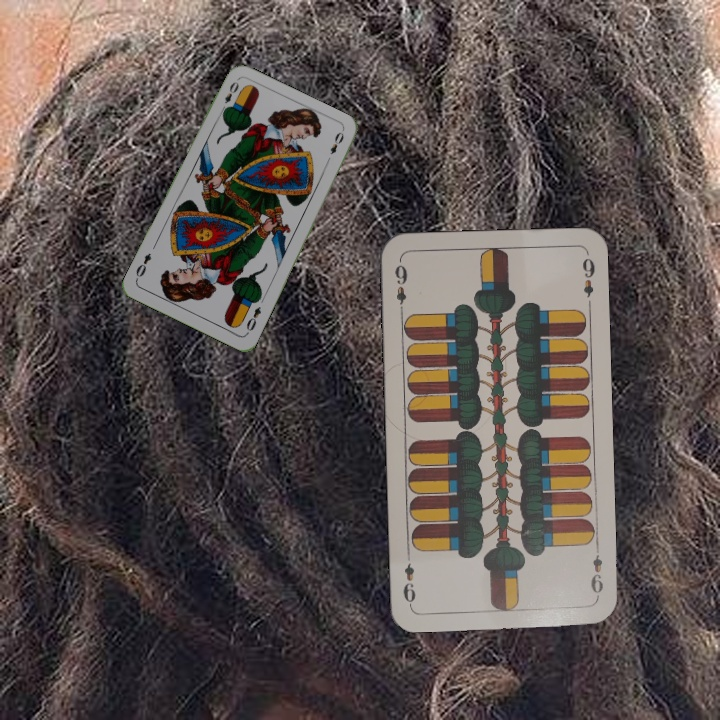E9: (391, 257, 410, 316), (587, 542, 606, 601)
EO: (217, 77, 241, 115), (242, 302, 264, 337)
